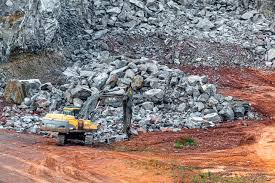excavator: (41, 94, 134, 149)
